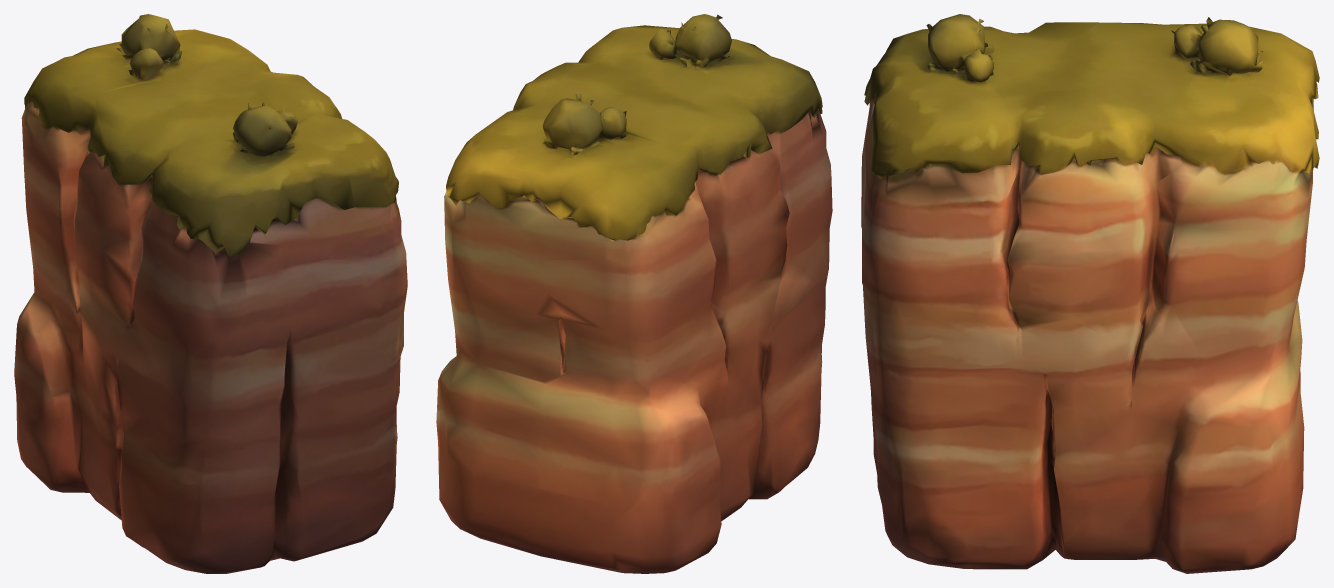
File: cliff.glb
3 views of the same model, side by side, from view 1: azimuth 30°, elevation 25°; view 2: azimuth 150°, elevation 25°; view 3: azimuth 270°, elevation 25° (orthographic). The views are drawn at different scales.
Parts seen in each view (by area): view 1: tripo_node_f8056037-4605-4ca2-9554-b38a4c7c8c1a; view 2: tripo_node_f8056037-4605-4ca2-9554-b38a4c7c8c1a; view 3: tripo_node_f8056037-4605-4ca2-9554-b38a4c7c8c1a.
Boxes of the visible parts, x1=… form: tripo_node_f8056037-4605-4ca2-9554-b38a4c7c8c1a: x1=14, y1=14, x2=407, y2=573; tripo_node_f8056037-4605-4ca2-9554-b38a4c7c8c1a: x1=436, y1=14, x2=832, y2=573; tripo_node_f8056037-4605-4ca2-9554-b38a4c7c8c1a: x1=861, y1=14, x2=1319, y2=573.
Size of the model in its own units: 0.6085 by 1 by 0.8422.
Materials: 1 (1 with a texture image).
